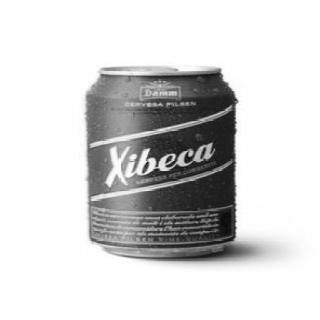alumunium_can: (82, 65, 238, 260)
